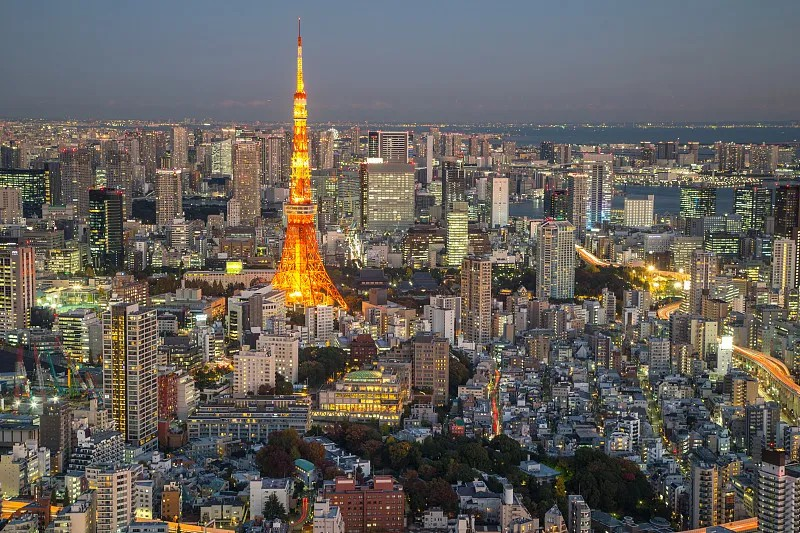Tokyo: (268, 17, 352, 316)
